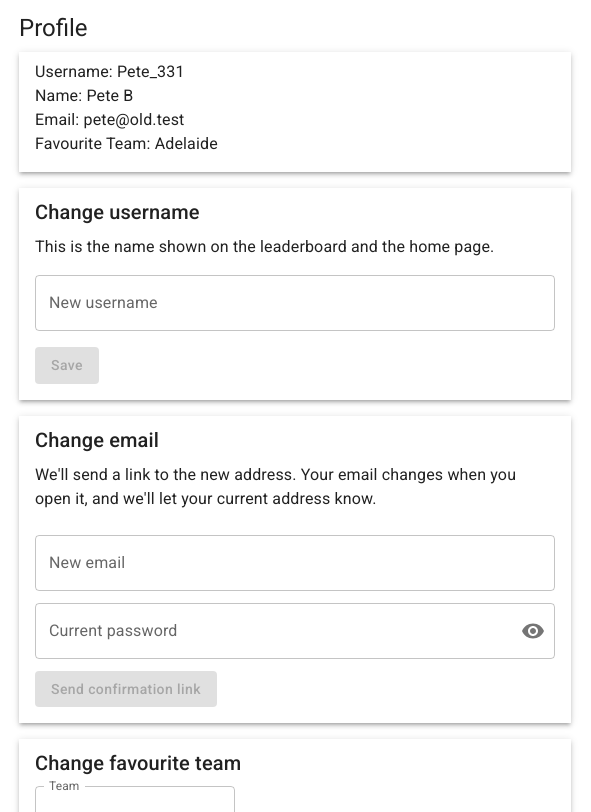
changing your email › asks for the new address and your current password
Type "pete@new.test" into the field labelled "New email" at [295, 563], box [35,535,555,591]
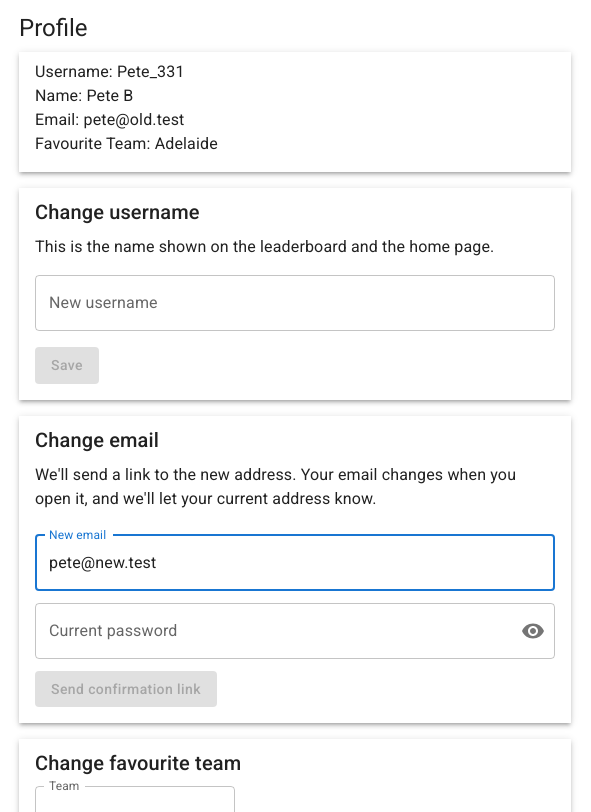
Type "Passw0rd1" into the password field labelled "Current password" at [270, 631], box [35,603,505,659]
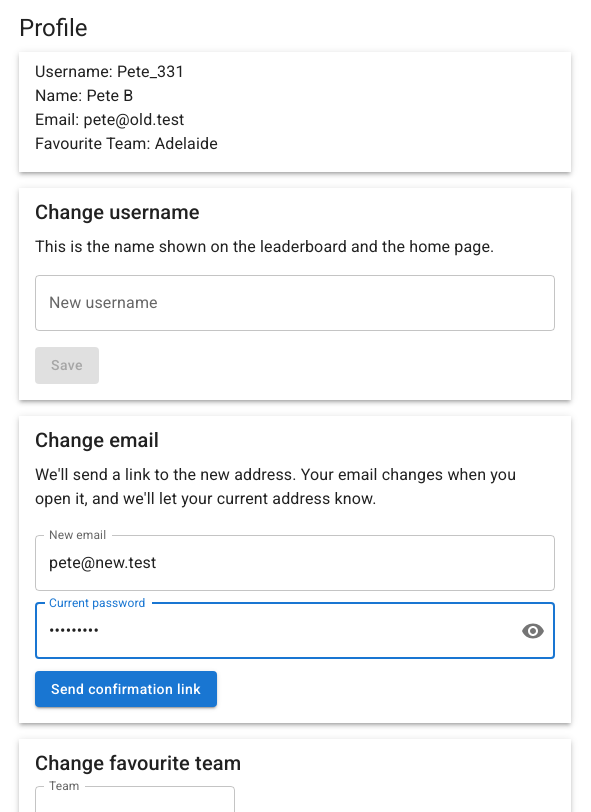
Click the button "Send confirmation link" at [126, 689], box [35,671,217,707]
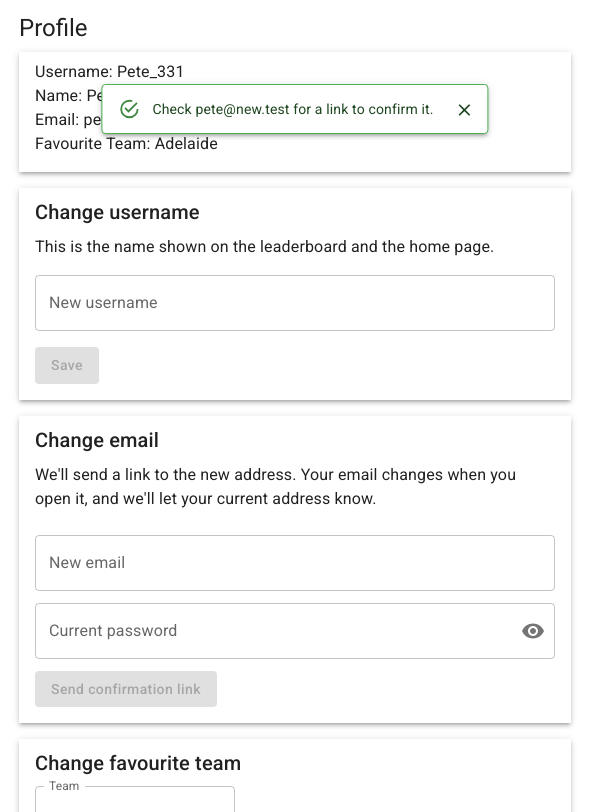
Expected: the text "Check pete@new.test for a link to confirm it." is shown, [152,101,434,117]
